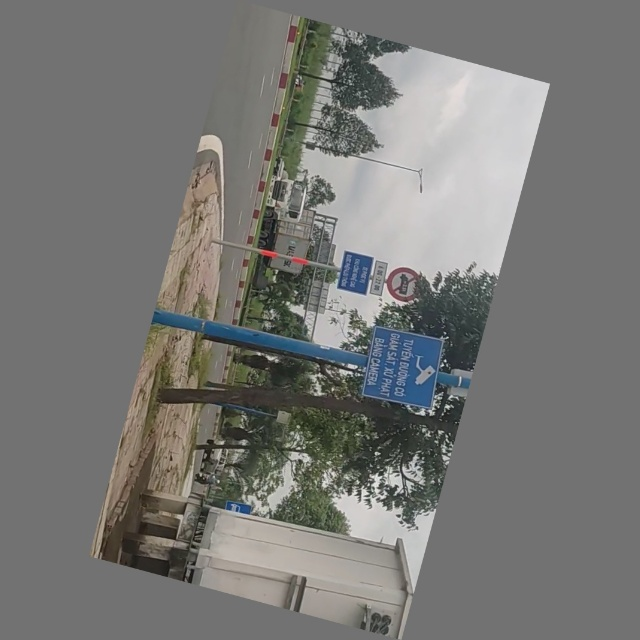Camera: (359, 322, 452, 410)
